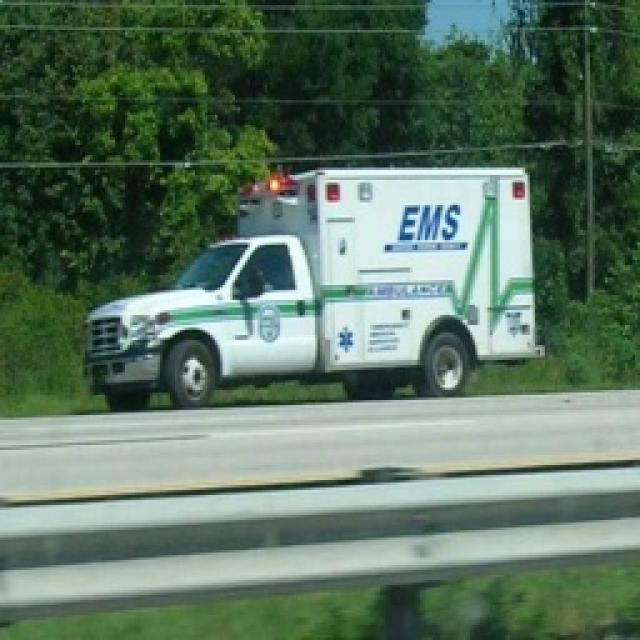emergency-vehicle: (67, 150, 558, 402)
